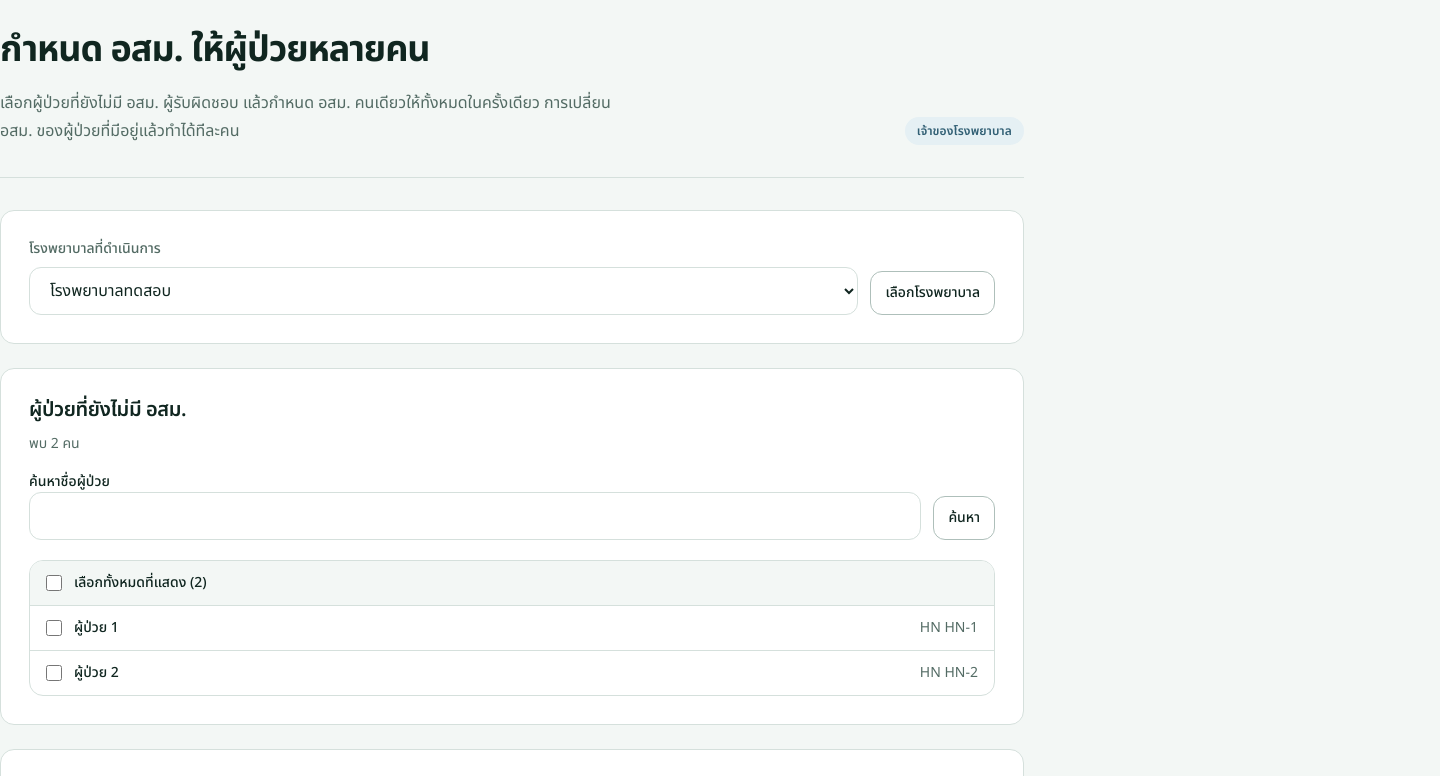
bulk OSM assignment feedback › shows one success Toast for a newly applied batch, refreshes once, and never replays
Click the checkbox labelled "ผู้ป่วย 1 HN HN-1": point(54, 628) [46,620,62,636]
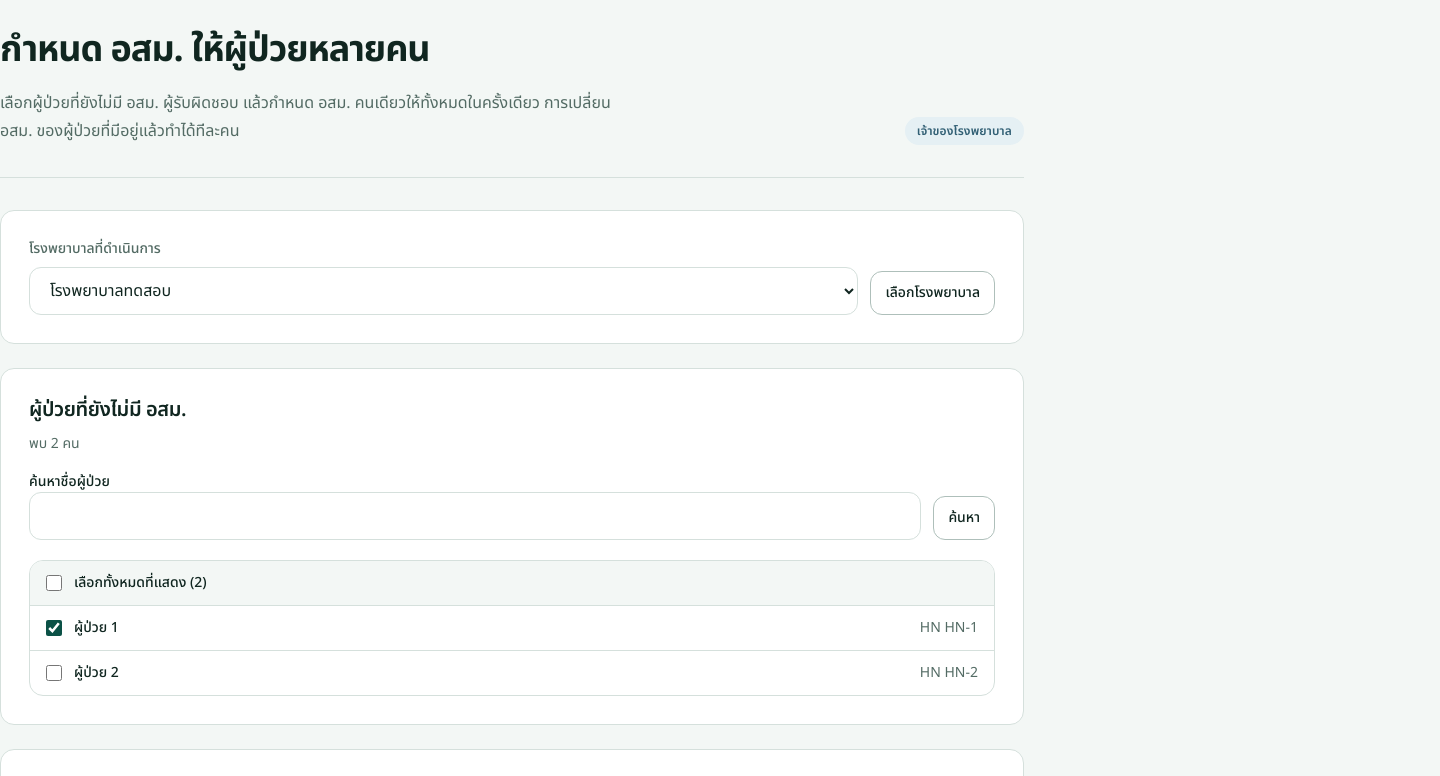
Click the checkbox labelled "ผู้ป่วย 2 HN HN-2": point(54, 673) [46,665,62,681]
(page scrolled)
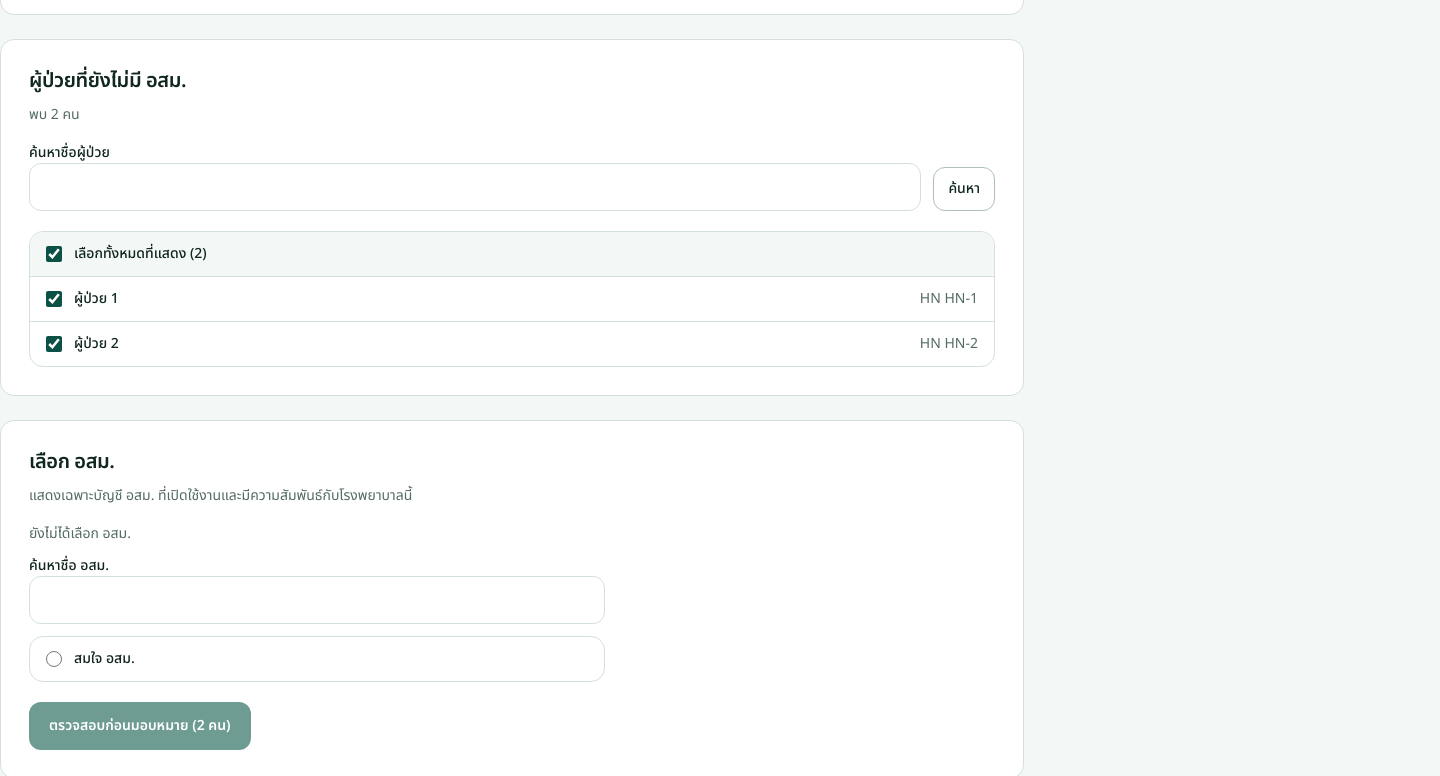
Click the radio button named "osm-candidate": point(54, 659) [46,651,62,667]
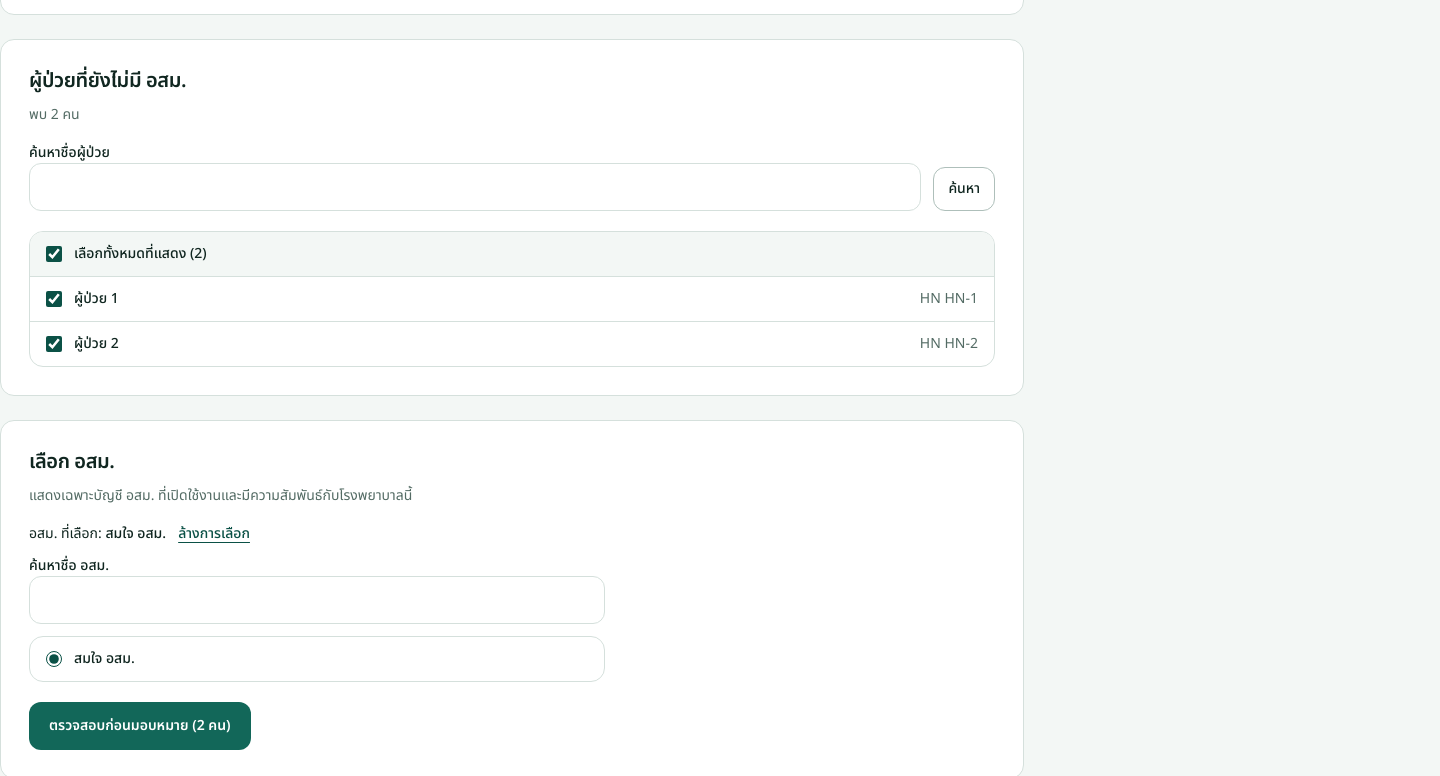
Click the button "ตรวจสอบก่อนมอบหมาย (2 คน)": point(140, 726) [29,702,251,750]
(page scrolled)
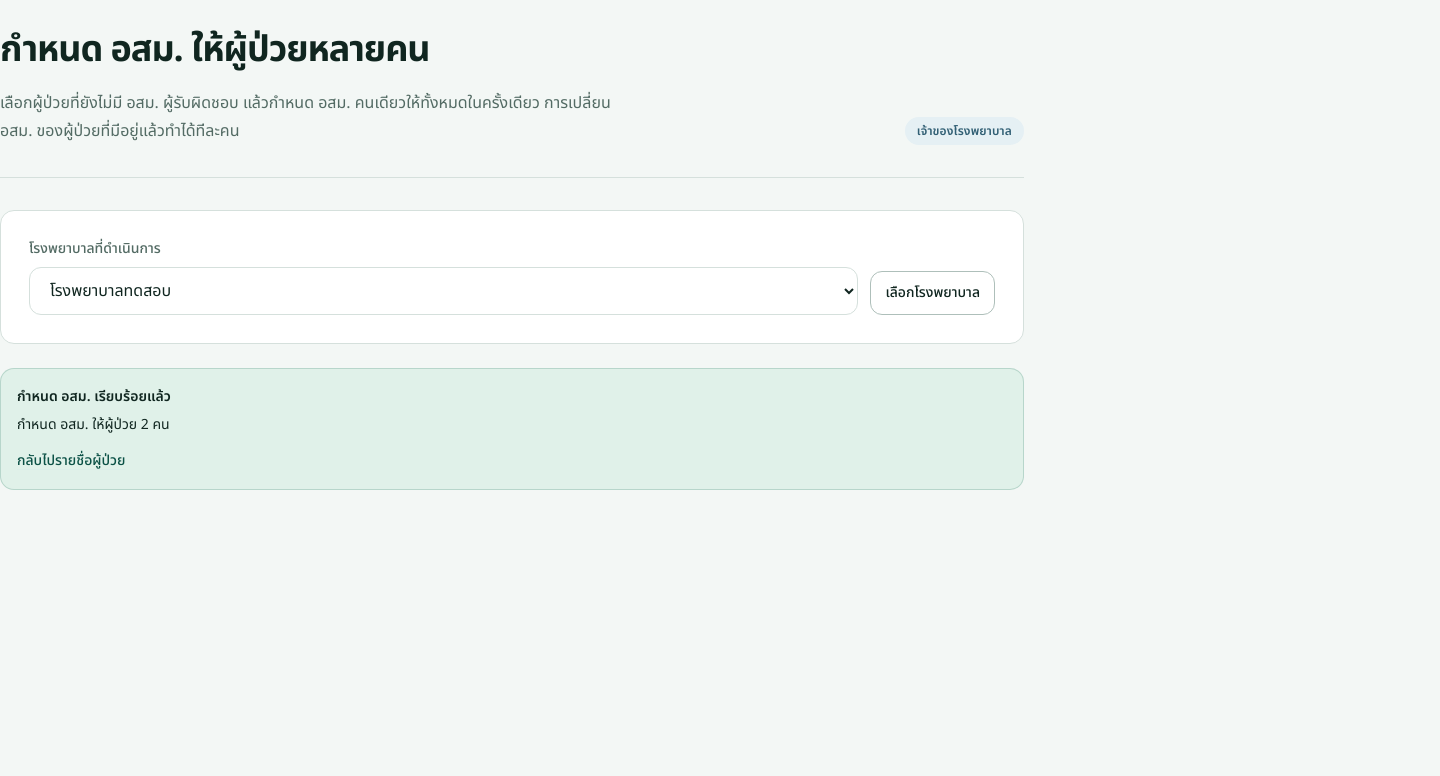
Expected: the text "กำหนด อสม. เรียบร้อยแล้ว" is shown, [17,386,171,407]
